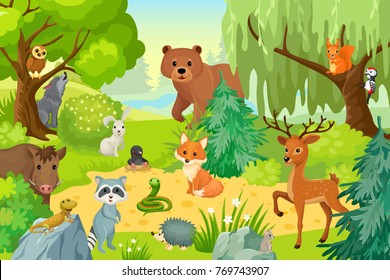animal: (262, 113, 347, 236), (158, 46, 243, 110), (171, 136, 233, 191), (86, 175, 130, 246), (1, 147, 73, 186), (96, 107, 134, 159), (37, 73, 71, 122), (34, 195, 75, 231), (138, 178, 175, 211), (325, 33, 356, 71), (119, 146, 154, 171)
bird: (26, 45, 46, 73), (363, 68, 380, 97)
tree: (227, 1, 384, 131), (1, 2, 146, 131)
